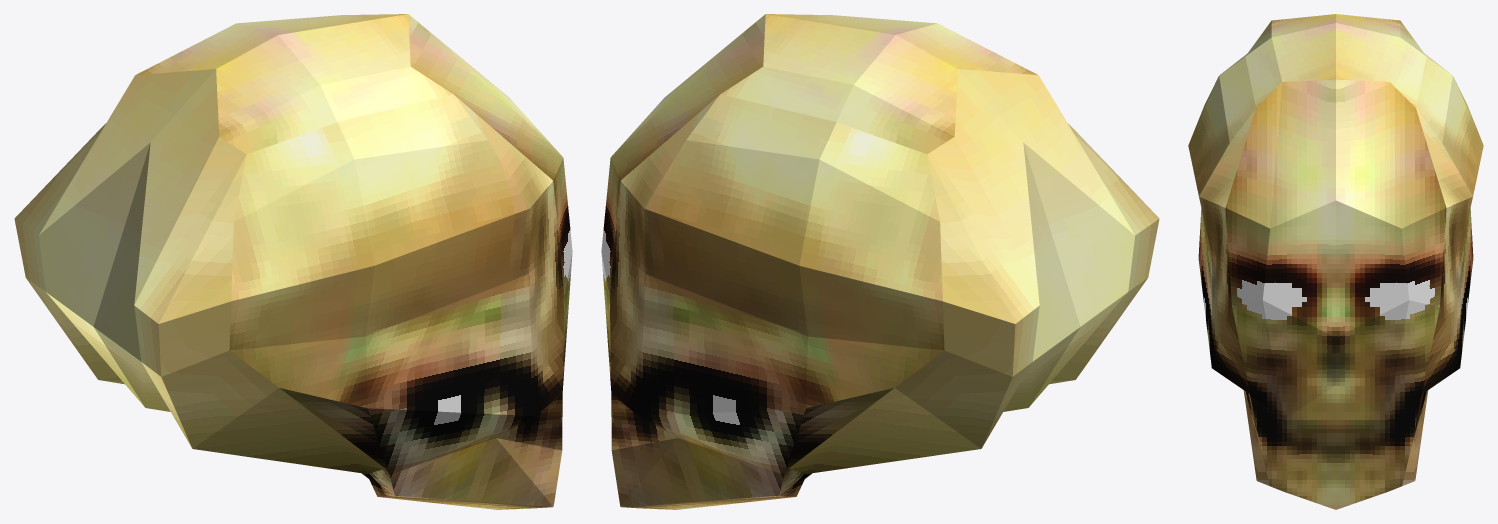
Rendered from Skull_Final.glb.
3 renders of one model, left to right at view 1: azimuth 30°, elevation 25°; view 2: azimuth 150°, elevation 25°; view 3: azimuth 270°, elevation 25°, orthographic. The views are drawn at different scales.
Visible parts, largest first — view 1: Cube; view 2: Cube; view 3: Cube.
Part boxes in pixels (x1,y1,x2,y2): Cube: (14,14,572,509); Cube: (601,14,1159,509); Cube: (1188,14,1483,509).
Bounding box in the file's own units: 1.7 × 1.92 × 1.27.
1 material, 1 textured.
